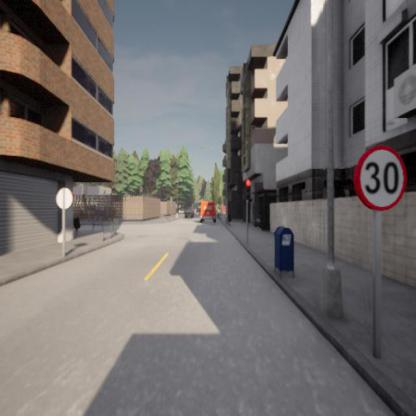traffic_light_red: (245, 178, 251, 202)
traffic_sign_30: (353, 144, 407, 210)
